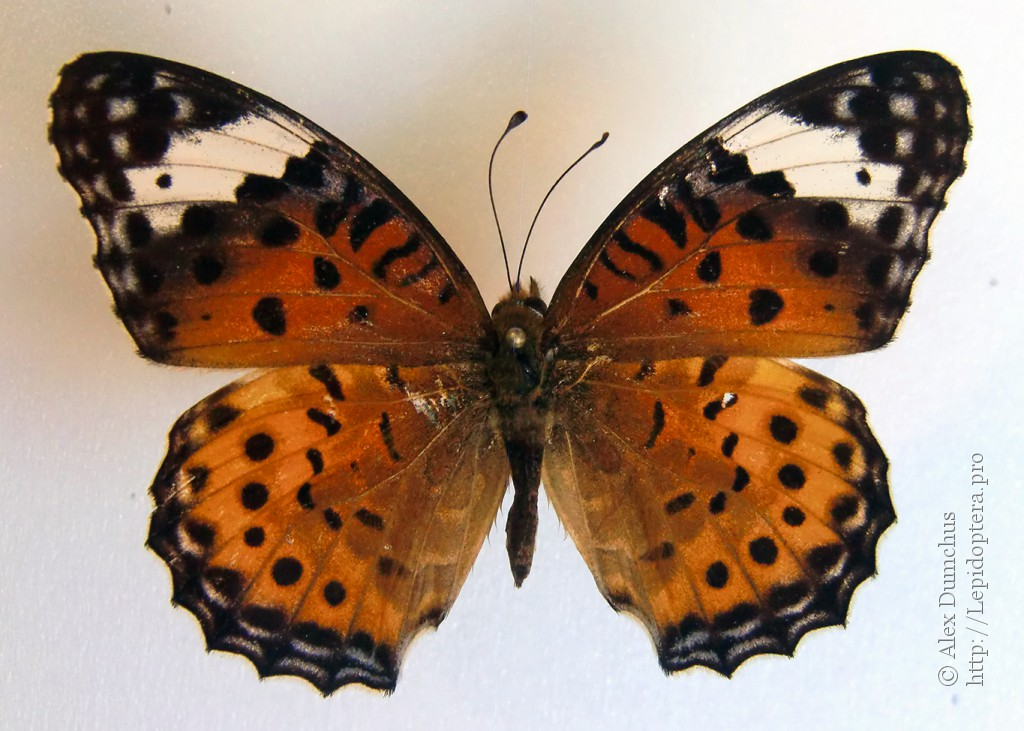Argyreus hyperbius: (35, 41, 969, 701)
butterfly: (37, 43, 971, 703)
